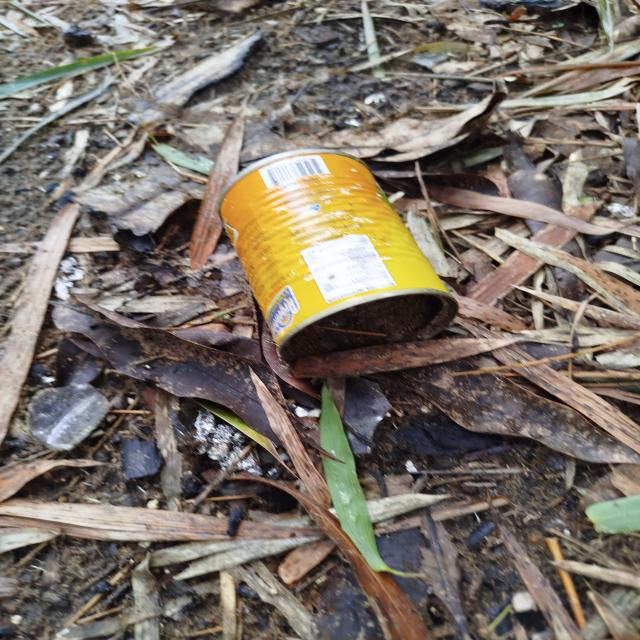metal: (207, 139, 485, 384)
